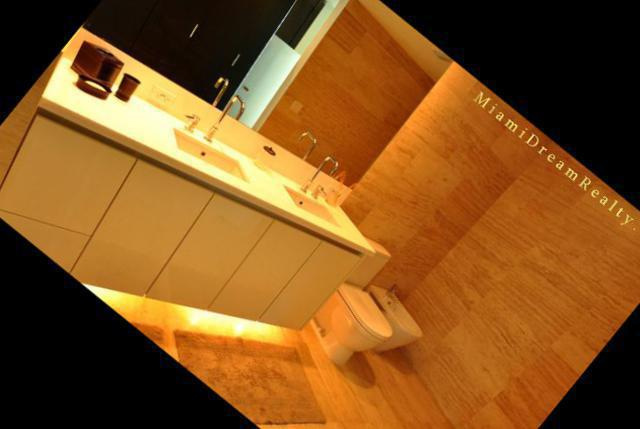Lavamanos: (169, 77, 287, 197), (273, 140, 375, 244)
Sanitario: (272, 222, 431, 384), (340, 272, 441, 372)
